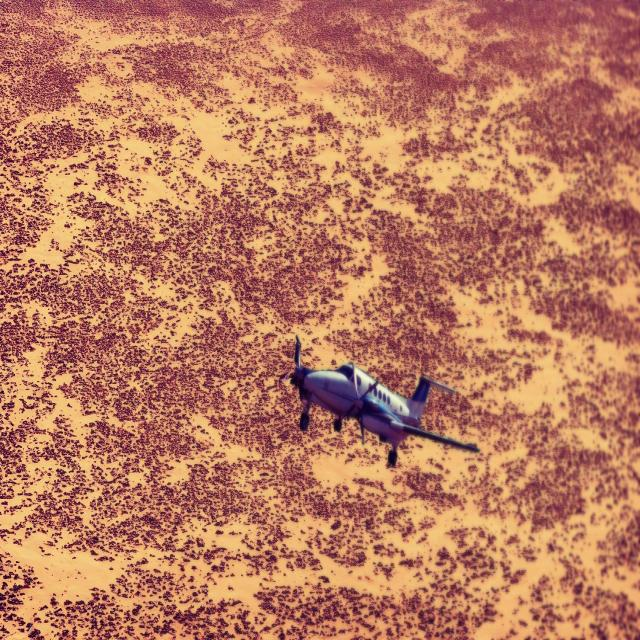airplane: (280, 333, 480, 467)
